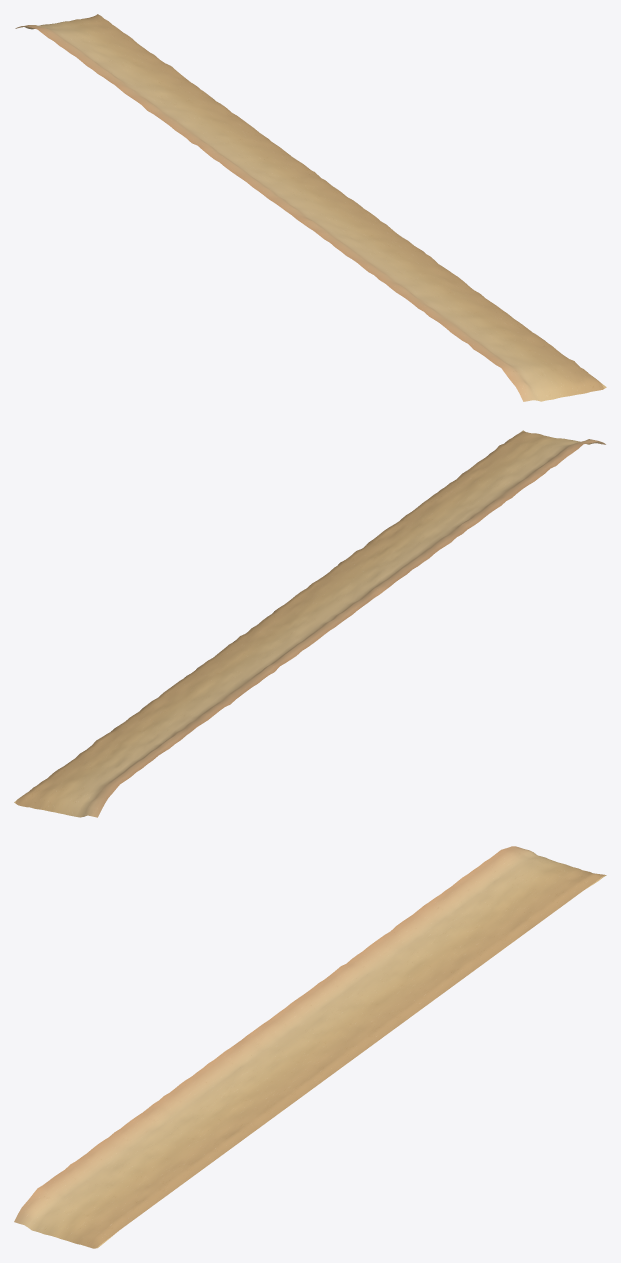
Rendered from Plage_1.1.fbx.
The picture shows the model from 3 angles, top to bottom: view 1: azimuth 30°, elevation 25°; view 2: azimuth 150°, elevation 25°; view 3: azimuth 330°, elevation 25°; orthographic projection.
Visible parts, largest first — view 1: Plage_1.1; view 2: Plage_1.1; view 3: Plage_1.1.
Boxes of the visible parts, x1,y1,x2,y2 form: Plage_1.1: [15, 14, 606, 401]; Plage_1.1: [14, 430, 605, 817]; Plage_1.1: [14, 846, 606, 1248].
Size of the model in its own units: 1693 by 476 by 17809.
